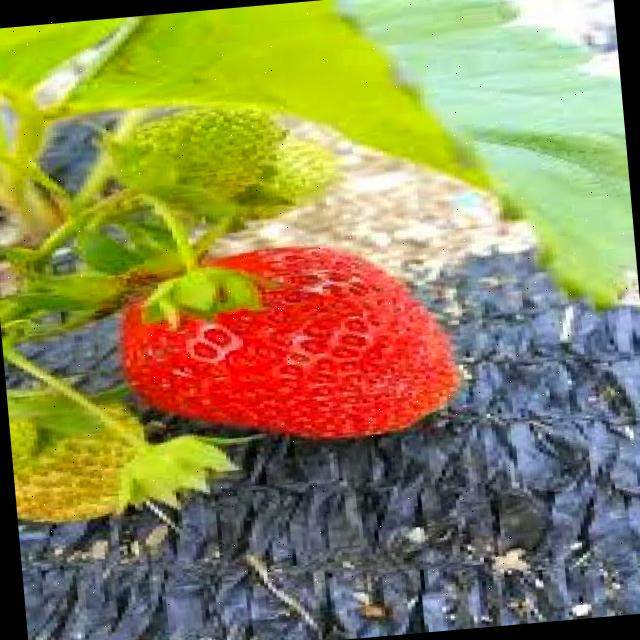strawberry: (110, 228, 462, 456), (5, 380, 149, 525), (114, 98, 286, 218)
